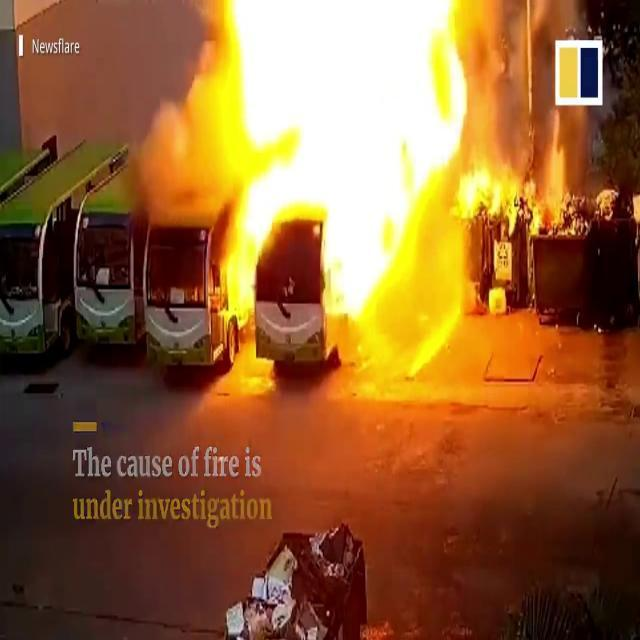Fire: (193, 0, 488, 285)
Smoke: (111, 39, 217, 229)
